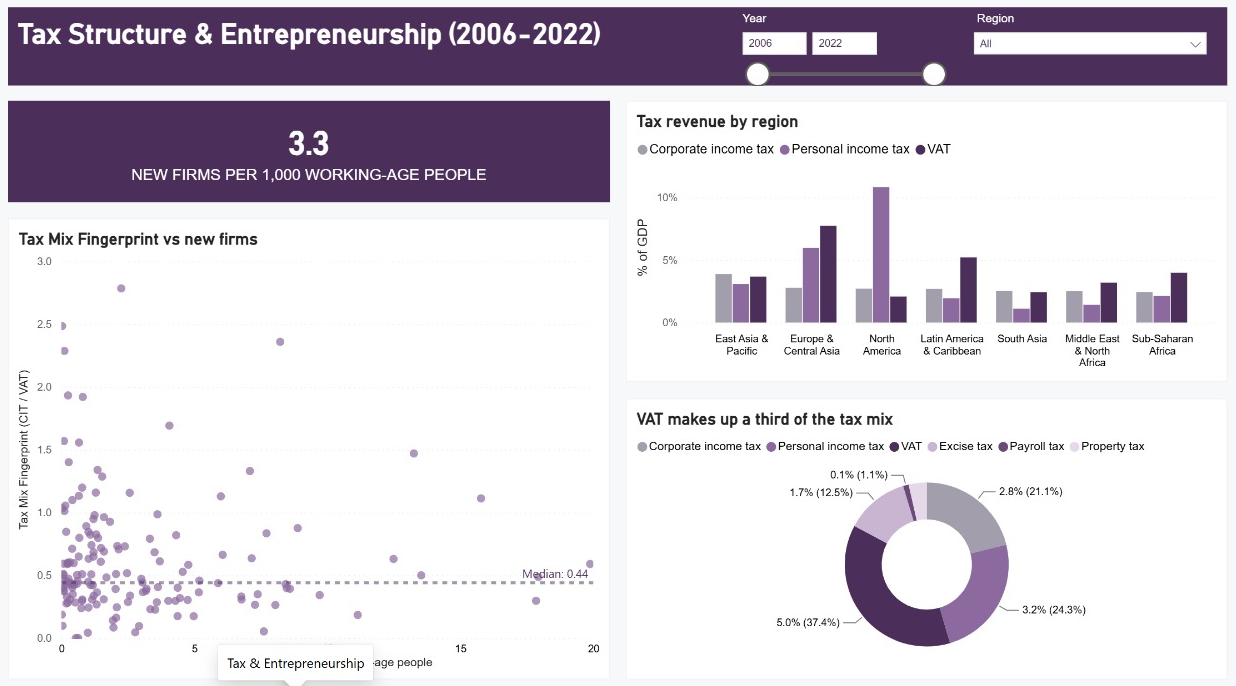

The dashboard page shown, as its layout file describes it:
{"tool":"powerbi","page":{"name":"Tax & Entrepreneurship","canvas":[1280,720],"ordinal":1},"visuals":[{"type":"textbox","box":[16,16,1248,80],"z":0},{"type":"scatterChart","title":"Tax Mix Fingerprint vs new firms","fields":{"Category":["Sheet1 (2).ID_Country","Sheet1 (2).ID_Year"],"X":["Avg(Sheet1 (2).ENTRY_Density)"],"Y":["Avg(Sheet1 (2).TAX_Mix_Fingerprint)"]},"box":[16,232,616,472],"z":1000},{"type":"clusteredColumnChart","title":"Tax revenue by region","fields":{"Category":["Sheet1.Region"],"Y":["Avg(Sheet1.CIT_Total)","Avg(Sheet1.PIT_Total)","Avg(Sheet1.VAT_Total)"]},"box":[648,112,616,288],"z":2000},{"type":"donutChart","title":"VAT makes up a third of the tax mix","fields":{"Y":["Avg(Sheet1.CIT_Total)","Avg(Sheet1.PIT_Total)","Avg(Sheet1.VAT_Total)","Avg(Sheet1.EXCISE_Tax)","Avg(Sheet1.PAYROLL_Tax)","Avg(Sheet1.PROPERTY_Tax)"]},"box":[648,416,616,288],"z":3000},{"type":"card","fields":{"Values":["Avg(Sheet1.ENTRY_Density)"]},"box":[16,112,616,104],"z":4000},{"type":"slicer","fields":{"Values":["Sheet1.Region"]},"box":[1000,20,248,76],"z":6500},{"type":"slicer","fields":{"Values":["Sheet1 (2).ID_Year"]},"box":[760,20,220,76],"z":7000}]}

Visuals, with their boxes in screenshot pixels (x1, y1, x2, y2), scaled from the page's 1280x720 canvas onto the 1236x686 screenshot:
textbox: left=15, top=15, right=1221, bottom=91
"Tax Mix Fingerprint vs new firms" scatterChart: left=15, top=221, right=610, bottom=671
"Tax revenue by region" clusteredColumnChart: left=626, top=107, right=1221, bottom=381
"VAT makes up a third of the tax mix" donutChart: left=626, top=396, right=1221, bottom=671
card - Avg(Sheet1.ENTRY_Density): left=15, top=107, right=610, bottom=206
slicer - Sheet1.Region: left=966, top=19, right=1205, bottom=91
slicer - Sheet1 (2).ID_Year: left=734, top=19, right=946, bottom=91
